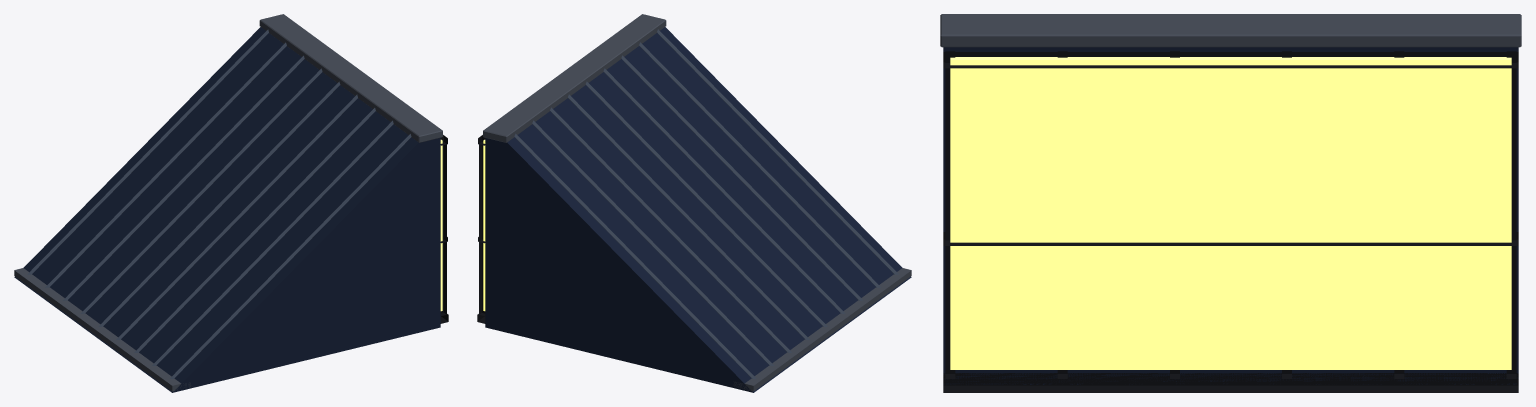
The model's file is hall_sawtooth_bay.glb.
3 renders of one model, left to right at view 1: azimuth 30°, elevation 25°; view 2: azimuth 150°, elevation 25°; view 3: azimuth 270°, elevation 25°, orthographic. The views are drawn at different scales.
Parts seen in each view (by area): view 1: roof; view 2: roof; view 3: roof.
Part boxes in pixels (x1=…): roof: x1=14, y1=14, x2=448, y2=392; roof: x1=477, y1=14, x2=911, y2=392; roof: x1=940, y1=14, x2=1521, y2=392.
Bounding box in the file's own units: 4.08 × 2.78 × 4.08.
